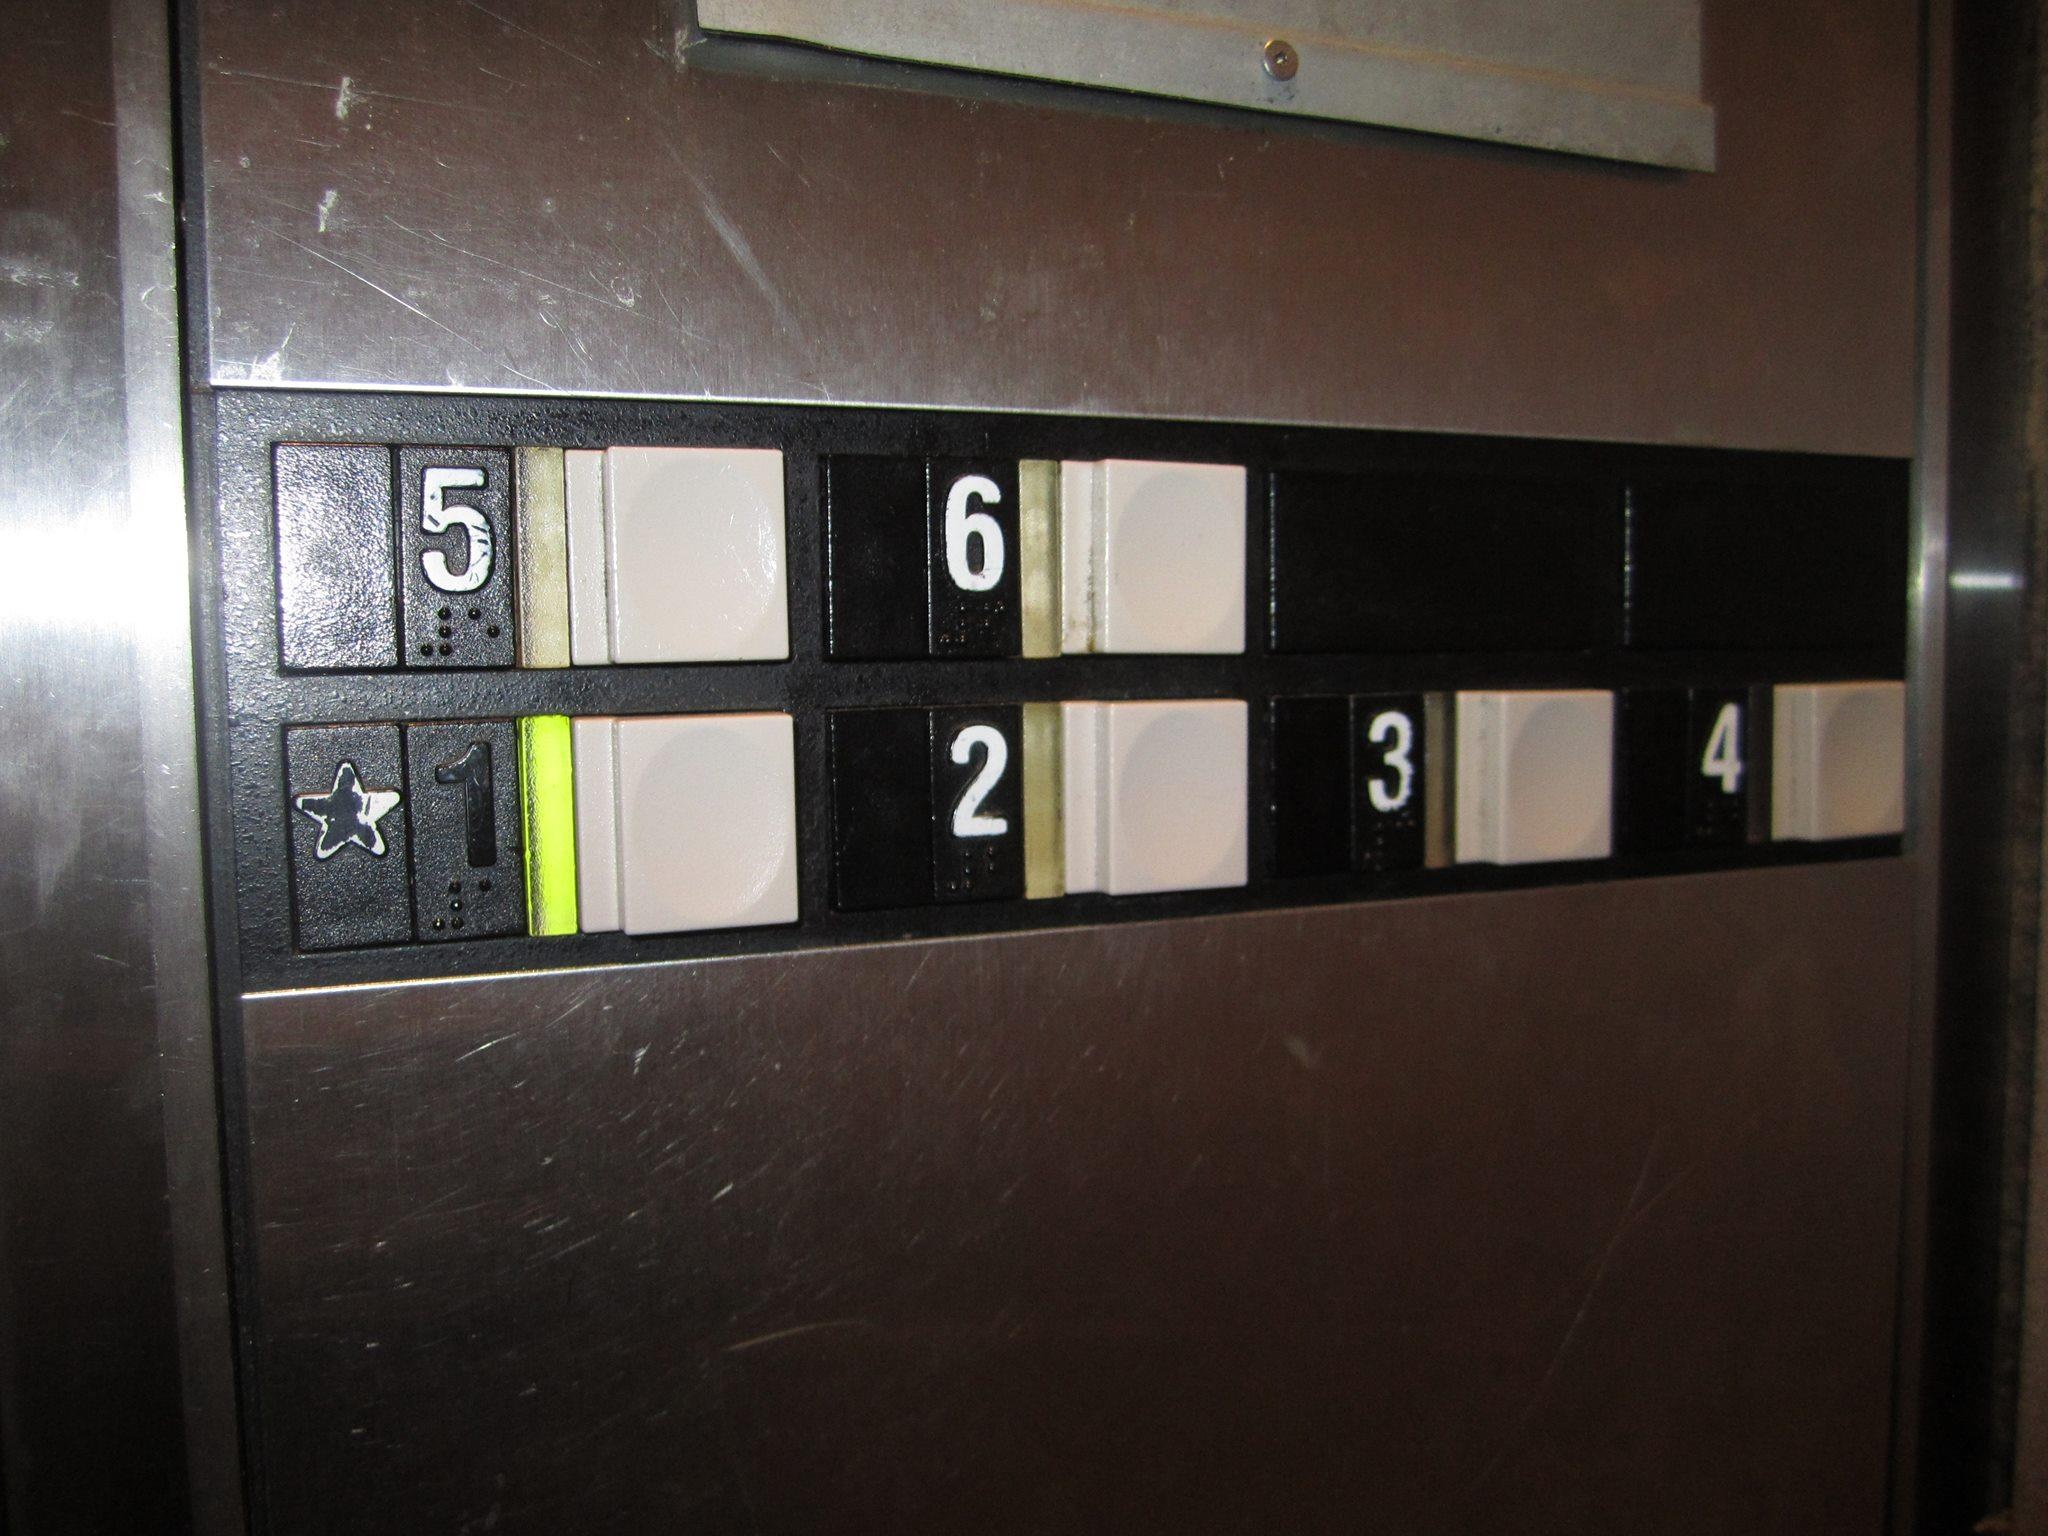2: (818, 699, 1034, 925)
3: (1259, 687, 1434, 879)
4: (1622, 676, 1756, 862)
5: (256, 436, 532, 681)
6: (814, 437, 1030, 666)
empty: (543, 428, 798, 674), (560, 710, 806, 944), (1055, 449, 1256, 665), (1051, 695, 1258, 904), (1450, 682, 1621, 874), (1766, 678, 1916, 849)
s1: (269, 707, 545, 954)
